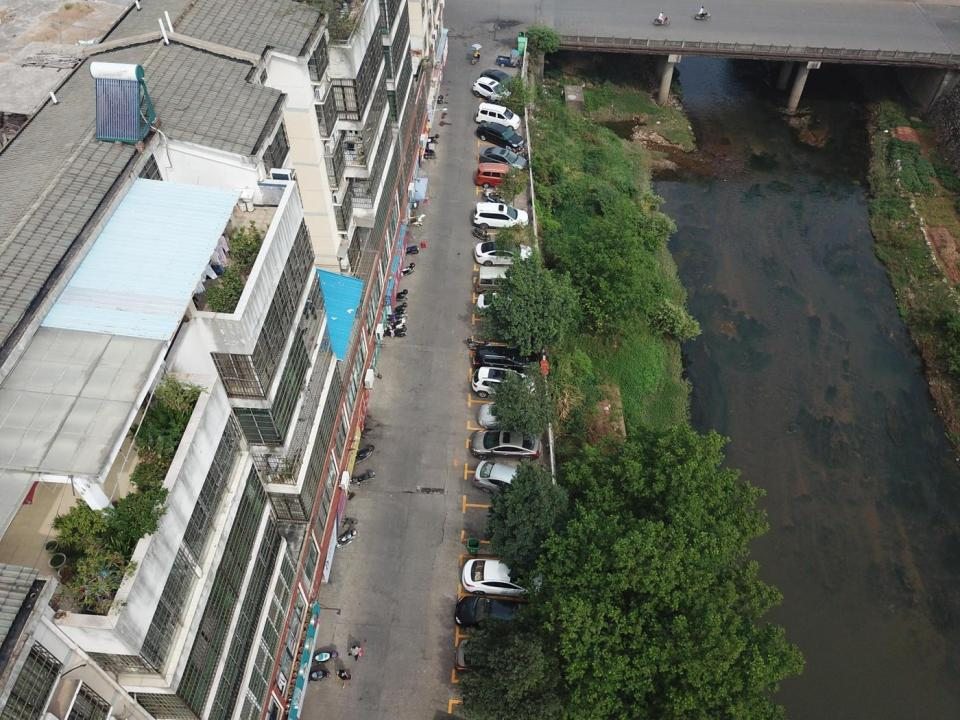car: (462, 558, 543, 596), (455, 639, 534, 673), (473, 461, 545, 498), (456, 596, 534, 630), (470, 428, 540, 462), (473, 366, 536, 401), (474, 345, 539, 376), (477, 402, 540, 429), (473, 202, 530, 229), (476, 240, 533, 264), (477, 121, 524, 150), (476, 293, 536, 315), (479, 145, 526, 172), (476, 162, 522, 188), (472, 76, 511, 104), (480, 68, 518, 90)
van: (476, 266, 534, 293), (475, 102, 521, 131)
